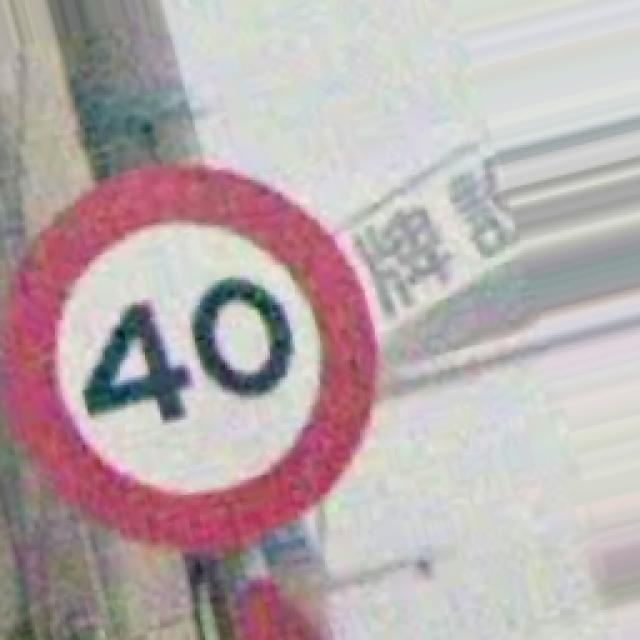Speed Limit -40-: (5, 165, 378, 552)
